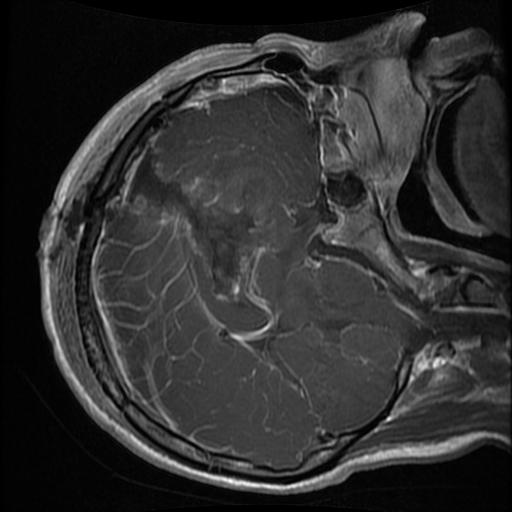glioma: (126, 148, 254, 309)
